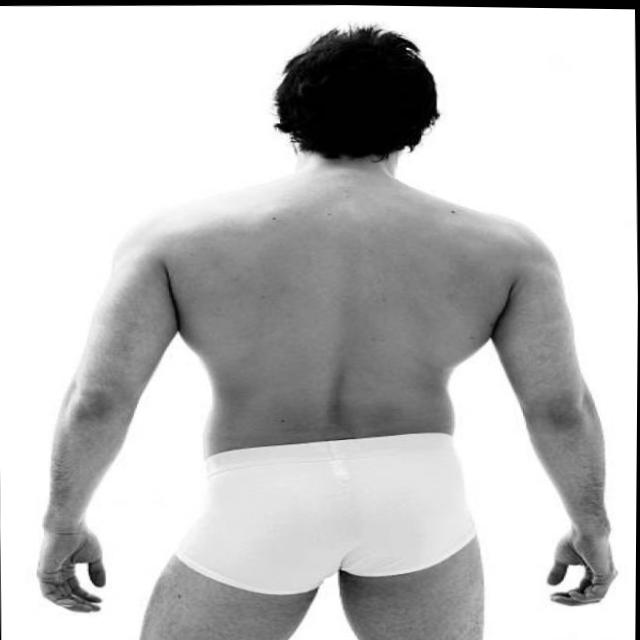no helmet: (279, 26, 452, 173)
